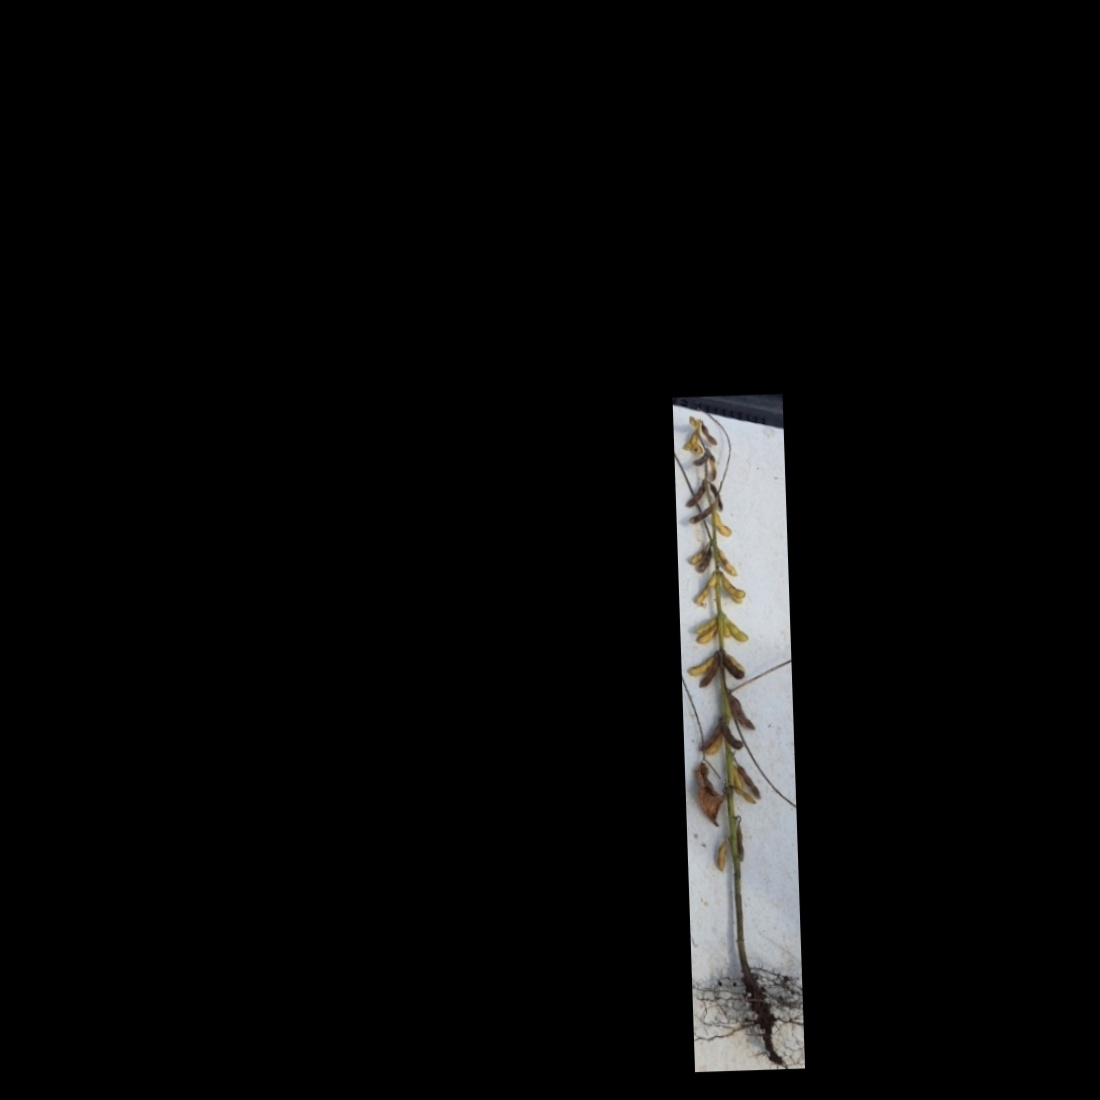pod: (729, 693, 757, 734), (738, 764, 766, 801), (681, 479, 707, 510), (708, 480, 725, 514), (713, 839, 728, 875), (685, 505, 712, 525), (734, 785, 757, 808), (701, 423, 720, 447)
soy: (679, 408, 792, 1050)
